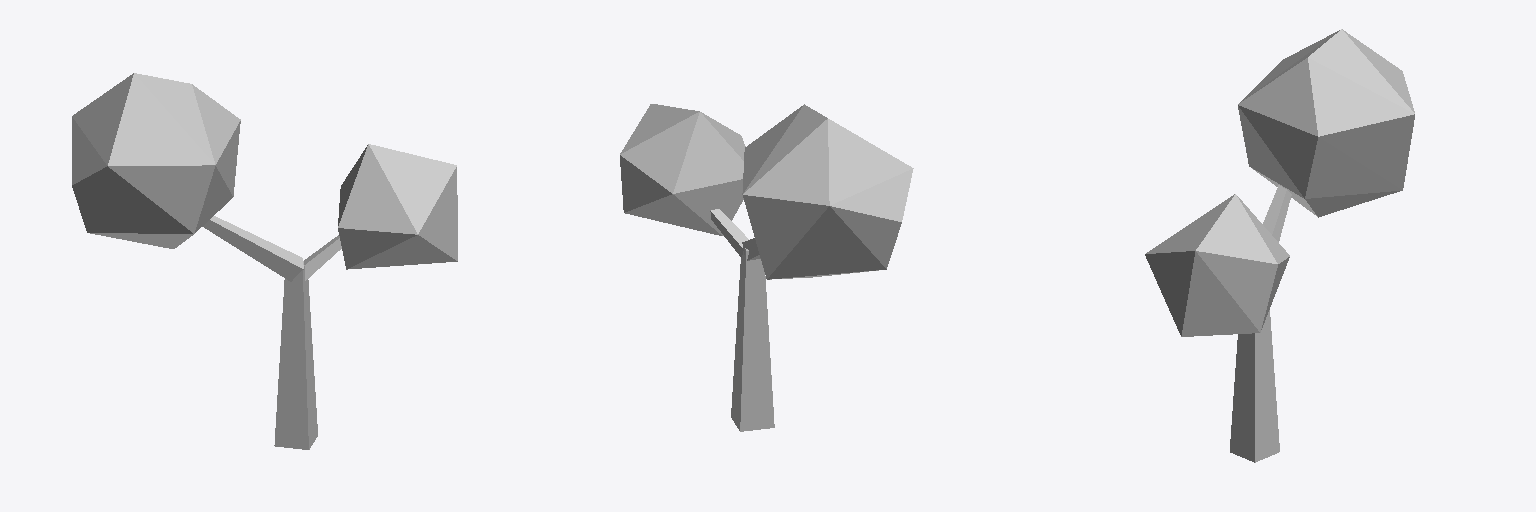
File: tree_1.obj
The picture shows the model from 3 angles: view 1: azimuth 30°, elevation 25°; view 2: azimuth 150°, elevation 25°; view 3: azimuth 270°, elevation 25°; orthographic projection.
Parts seen in each view (by area): view 1: Cylinder.001; view 2: Cylinder.001; view 3: Cylinder.001.
Boxes of the visible parts, <box> form: Cylinder.001: <box>72,73,457,449</box>; Cylinder.001: <box>620,104,913,431</box>; Cylinder.001: <box>1145,29,1414,462</box>.
Size of the model in its own units: 2.65 by 2.9 by 1.95.